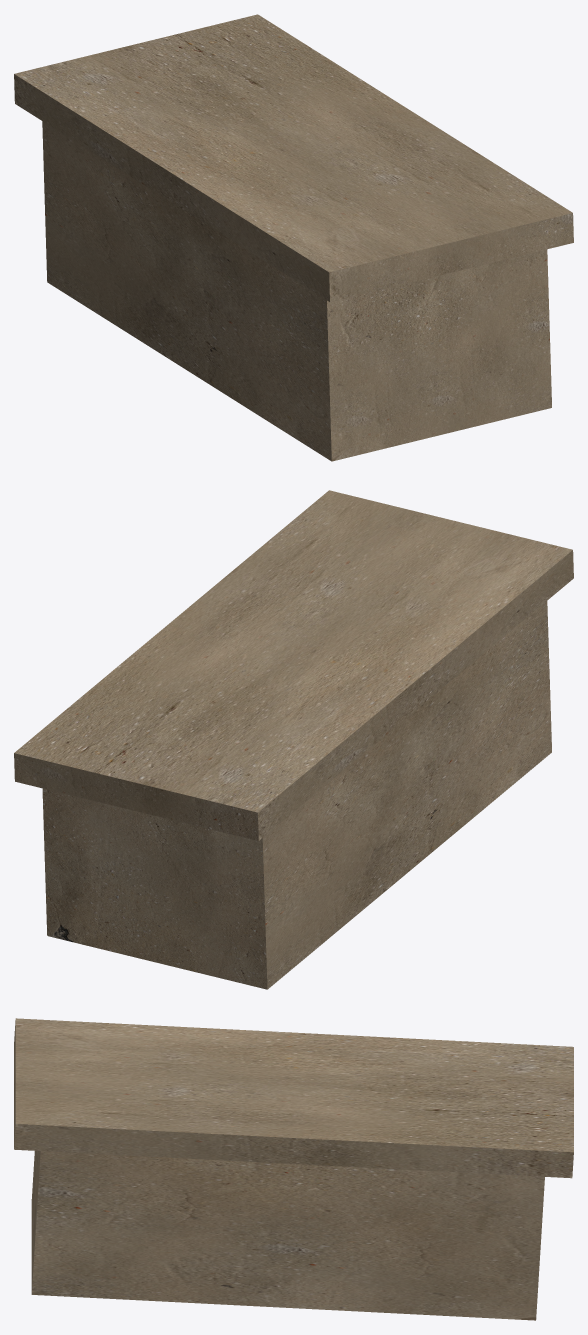
File: BuildingExport.obj
3 views of the same model, one above another, from view 1: azimuth 30°, elevation 25°; view 2: azimuth 150°, elevation 25°; view 3: azimuth 270°, elevation 25° (orthographic). The views are drawn at different scales.
Visible parts, largest first — view 1: Cube.001; view 2: Cube.001; view 3: Cube.001.
Boxes of the visible parts, <box> form: Cube.001: <box>14,14,573,461</box>; Cube.001: <box>14,490,573,989</box>; Cube.001: <box>14,1018,573,1320</box>.
Size of the model in its own units: 2.21 by 1.98 by 4.97.
